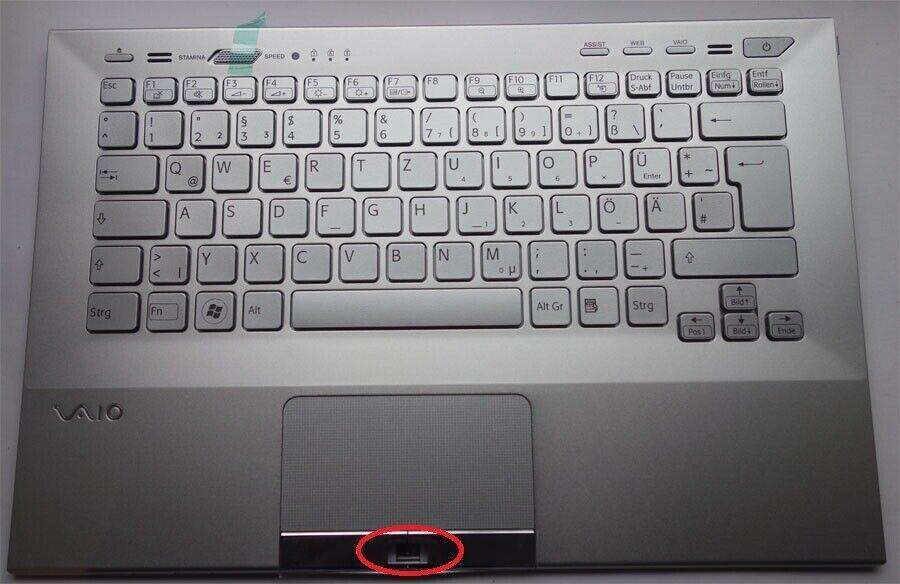0: (555, 100, 596, 140)
1: (141, 107, 181, 145)
2: (187, 106, 228, 145)
3: (232, 106, 273, 145)
4: (279, 105, 318, 143)
5: (325, 105, 365, 143)
6: (371, 104, 411, 143)
7: (418, 104, 458, 143)
8: (463, 103, 503, 141)
9: (510, 102, 550, 141)
a: (171, 196, 212, 235)
accent: (649, 99, 689, 137)
ae: (642, 189, 684, 229)
alt-left: (238, 287, 281, 328)
altgr-right: (527, 284, 570, 325)
b: (381, 238, 424, 279)
c: (287, 239, 329, 280)
caret: (94, 107, 134, 146)
comma: (525, 237, 567, 277)
d: (265, 194, 305, 234)
del: (695, 97, 784, 136)
e: (255, 150, 295, 189)
enter: (723, 142, 792, 228)
f: (313, 194, 353, 234)
g: (359, 193, 399, 233)
h: (406, 193, 446, 232)
hash: (690, 188, 732, 229)
i: (488, 147, 527, 186)
j: (454, 192, 493, 232)
k: (501, 191, 541, 231)
keyboard: (45, 16, 826, 369)
l: (548, 191, 588, 230)
less: (145, 241, 188, 282)
m: (476, 237, 519, 278)
minus: (621, 236, 663, 276)
n: (430, 238, 471, 278)
o: (533, 146, 574, 185)
oe: (594, 190, 635, 230)
p: (580, 144, 621, 184)
plus: (675, 143, 717, 183)
point: (573, 236, 614, 277)
q: (162, 151, 203, 191)
r: (302, 149, 341, 189)
s: (219, 195, 259, 235)
shift-left: (86, 241, 139, 282)
shift-lock: (89, 195, 165, 236)
shift-right: (668, 233, 795, 275)
space: (288, 284, 520, 326)
ss: (601, 100, 642, 138)
strg-left: (80, 288, 137, 330)
strg-right: (623, 282, 666, 324)
t: (348, 149, 387, 187)
tab: (92, 151, 155, 190)
u: (440, 147, 481, 187)
ue: (627, 144, 670, 184)
v: (335, 239, 376, 279)
w: (208, 150, 248, 190)
x: (241, 241, 282, 281)
y: (193, 241, 235, 281)
z: (395, 148, 434, 187)
